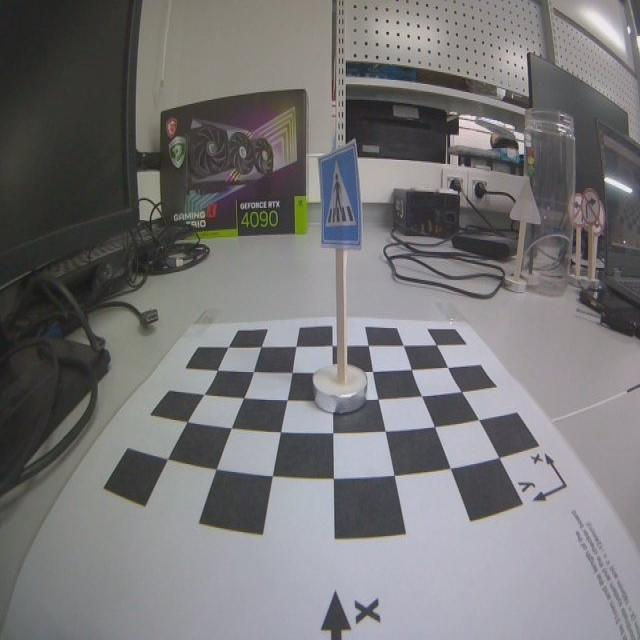Rambu Penyebrangan: (318, 140, 363, 245)
